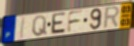9: (89, 7, 103, 31)
E: (50, 11, 67, 35)
F: (66, 9, 85, 34)
I: (19, 17, 26, 40)
Q: (31, 15, 48, 38)
R: (102, 5, 121, 31)
